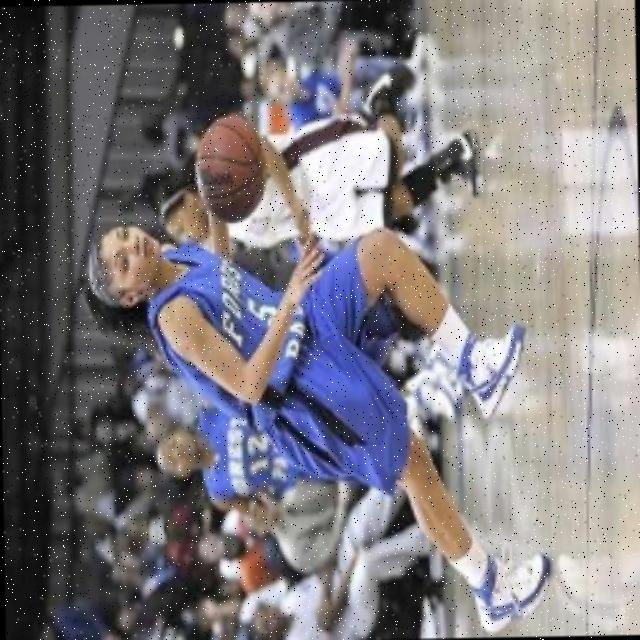ball: (194, 113, 268, 220)
